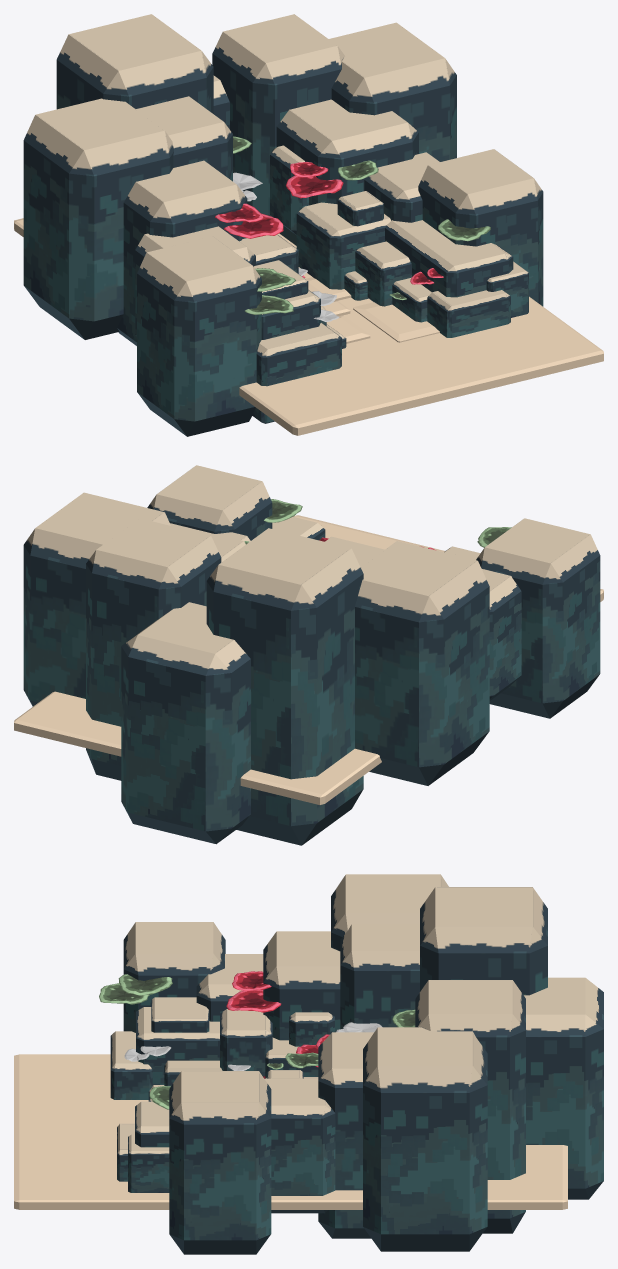
File: Back Floor.fbx
The picture shows the model from 3 angles, top to bottom: view 1: azimuth 30°, elevation 25°; view 2: azimuth 150°, elevation 25°; view 3: azimuth 270°, elevation 25°; orthographic projection. The views are drawn at different scales.
Visible parts, largest first — view 1: Cube.049, Cube.022, Cube.046, Cube.011, Cube.009, Cube.048, Cube.047, Cube.007, Cube.012, Cube.019, Cube.018, Cube.008 (+21 smaller); view 2: Cube.009, Cube.049, Cube.010, Cube.046, Cube.011, Cube.048, Cube.022, Cube.047, Cube.006, Cube.019, Cube.012, Cube.008 (+1 smaller); view 3: Cube.048, Cube.022, Cube.047, Cube.010, Cube.011, Cube.009, Cube.008, Cube.013, Cube.012, Cube.046, Cube.007, Cube.049 (+15 smaller).
Boxes of the visible parts, bbox=[...] form: Cube.049: bbox=[23, 98, 173, 339]; Cube.022: bbox=[14, 218, 603, 435]; Cube.046: bbox=[137, 236, 261, 436]; Cube.011: bbox=[212, 14, 344, 215]; Cube.009: bbox=[56, 14, 213, 113]; Cube.048: bbox=[329, 22, 456, 161]; Cube.047: bbox=[418, 149, 543, 306]; Cube.007: bbox=[117, 160, 247, 345]; Cube.012: bbox=[276, 99, 418, 245]; Cube.019: bbox=[385, 220, 513, 297]; Cube.018: bbox=[296, 202, 391, 289]; Cube.008: bbox=[136, 96, 232, 181]; Cube.009: bbox=[206, 528, 363, 845]; Cube.049: bbox=[355, 541, 489, 785]; Cube.010: bbox=[121, 602, 250, 844]; Cube.046: bbox=[476, 518, 600, 718]; Cube.011: bbox=[86, 518, 221, 780]; Cube.048: bbox=[23, 492, 170, 706]; Cube.022: bbox=[14, 515, 603, 804]; Cube.047: bbox=[147, 465, 272, 540]; Cube.006: bbox=[455, 554, 521, 700]; Cube.019: bbox=[272, 517, 325, 540]; Cube.012: bbox=[170, 523, 245, 562]; Cube.008: bbox=[325, 537, 384, 567]; Cube.048: bbox=[363, 1027, 487, 1251]; Cube.022: bbox=[14, 1054, 567, 1209]; Cube.047: bbox=[169, 1071, 271, 1254]; Cube.010: bbox=[524, 977, 603, 1199]; Cube.011: bbox=[415, 980, 525, 1233]; Cube.009: bbox=[420, 887, 547, 995]; Cube.008: bbox=[340, 924, 419, 1029]; Cube.013: bbox=[264, 1078, 335, 1213]; Cube.012: bbox=[318, 1032, 373, 1238]; Cube.046: bbox=[123, 922, 225, 1032]; Cube.007: bbox=[263, 931, 340, 1040]; Cube.049: bbox=[331, 874, 448, 951].
Size of the model in its own units: 11826 by 7239 by 15219.
